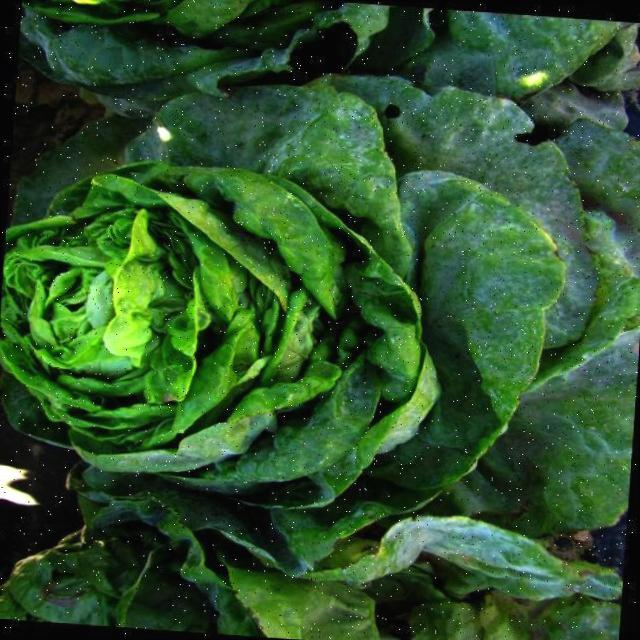Powdery_Mildew: (40, 71, 567, 526)
